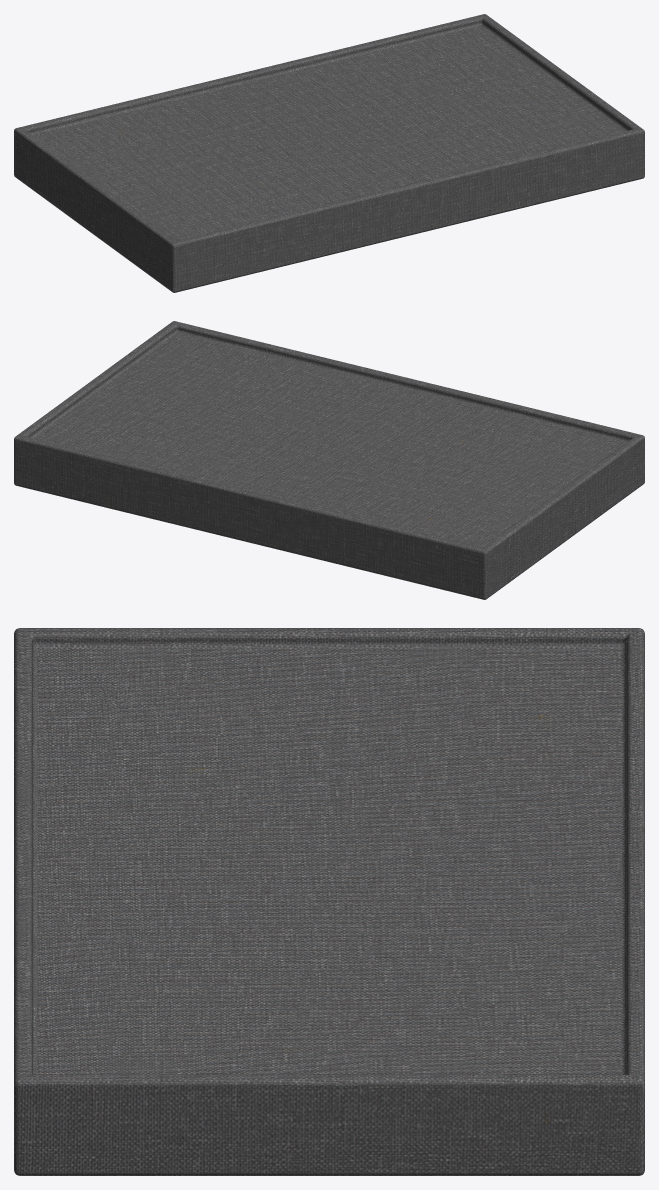
3 renders of one model, top to bottom at view 1: azimuth 30°, elevation 25°; view 2: azimuth 150°, elevation 25°; view 3: azimuth 270°, elevation 25°, orthographic. The views are drawn at different scales.
Parts seen in each view (by area): view 1: base_cama.001; view 2: base_cama.001; view 3: base_cama.001.
Boxes of the visible parts, x1,y1,x2,y2 form: base_cama.001: (14, 14, 644, 292); base_cama.001: (14, 321, 644, 599); base_cama.001: (14, 628, 644, 1175).
Size of the model in its own units: 1.96 by 0.1948 by 1.15.
Materials: 1 (1 with a texture image).
